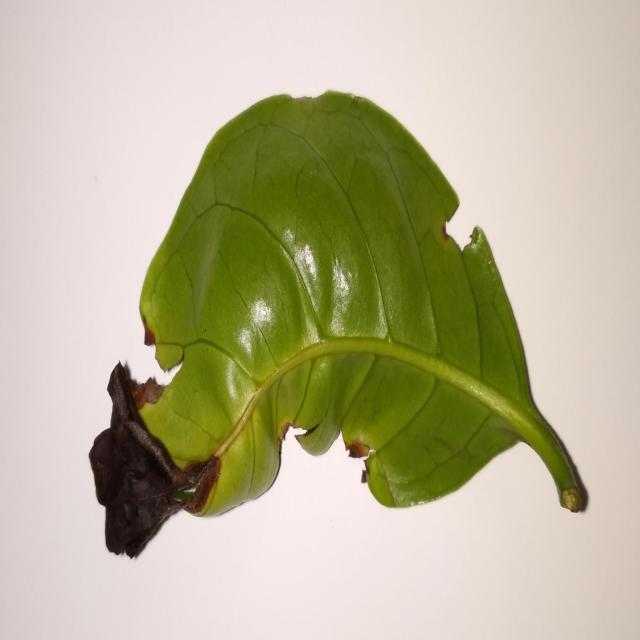Enfermedad-Antracnosis: (88, 91, 590, 562)
